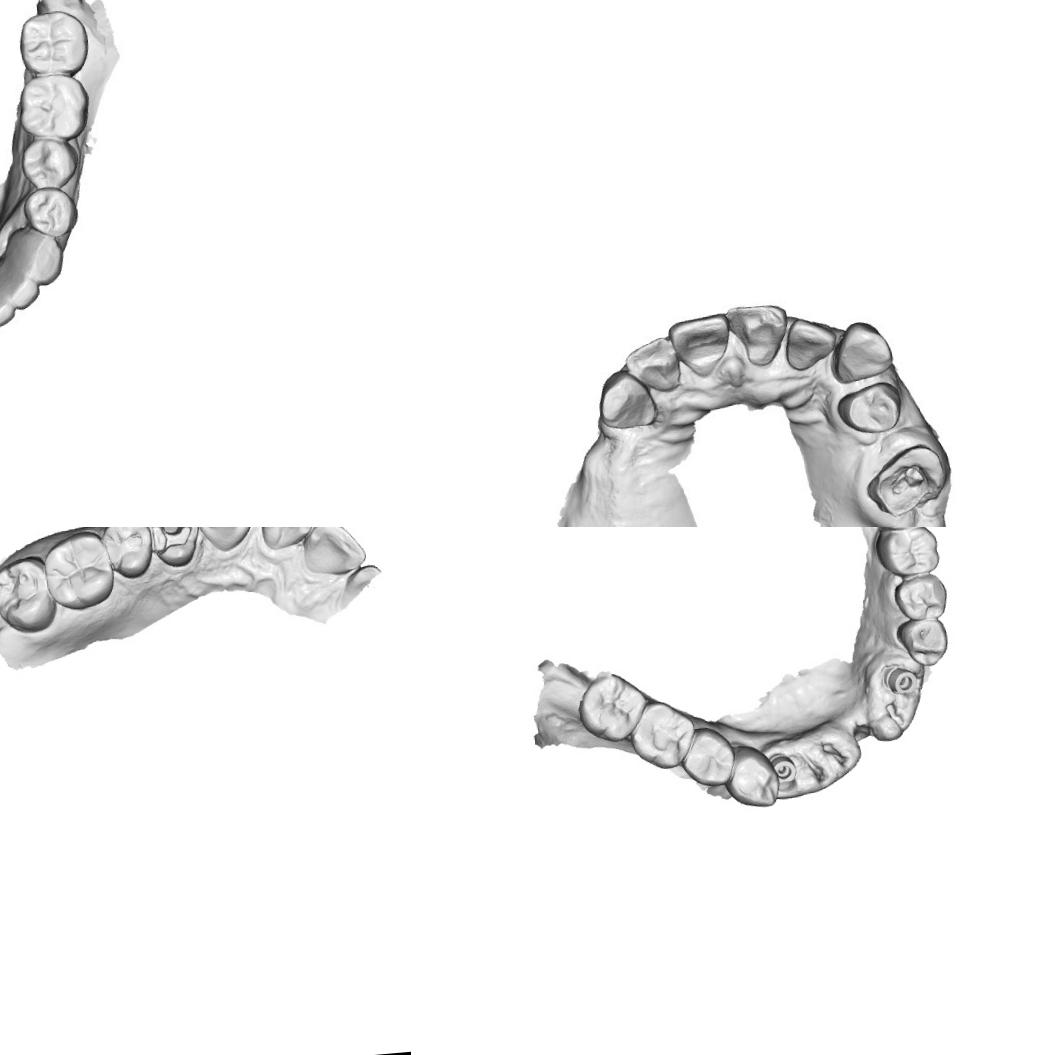canine: (824, 314, 898, 388), (594, 366, 662, 434), (8, 224, 68, 288), (194, 527, 255, 554)
implant: (880, 662, 919, 696), (768, 752, 798, 785)
incisor: (720, 294, 792, 371), (667, 313, 732, 382), (620, 336, 685, 399), (779, 316, 839, 376), (298, 527, 367, 578), (0, 262, 39, 312), (258, 527, 317, 551), (0, 273, 21, 332)
inlay: (148, 527, 195, 559)
molar: (38, 527, 118, 612), (573, 666, 651, 744), (627, 696, 698, 773), (16, 5, 89, 78), (0, 552, 58, 636), (15, 72, 86, 140), (872, 527, 941, 578)
premolar: (832, 378, 903, 441), (720, 740, 781, 811), (678, 724, 738, 790), (16, 136, 79, 195), (894, 614, 950, 669), (99, 527, 155, 581), (19, 184, 77, 236), (891, 571, 949, 622)
